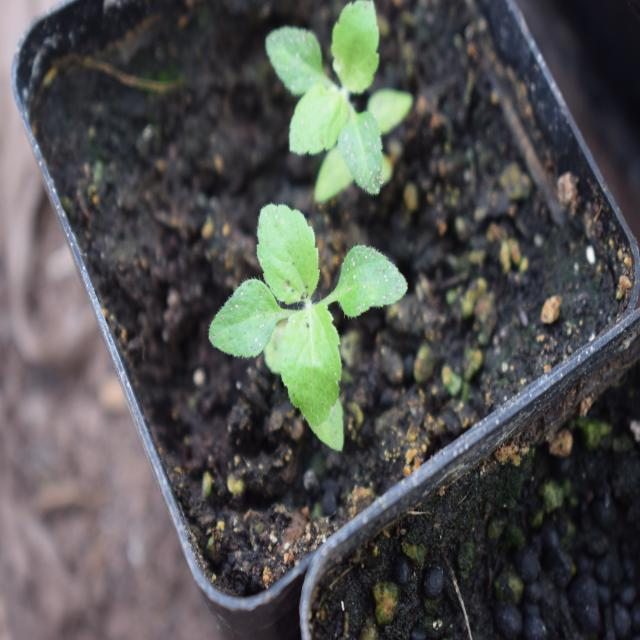billygoat_weed: (205, 184, 381, 456), (264, 2, 413, 222)
